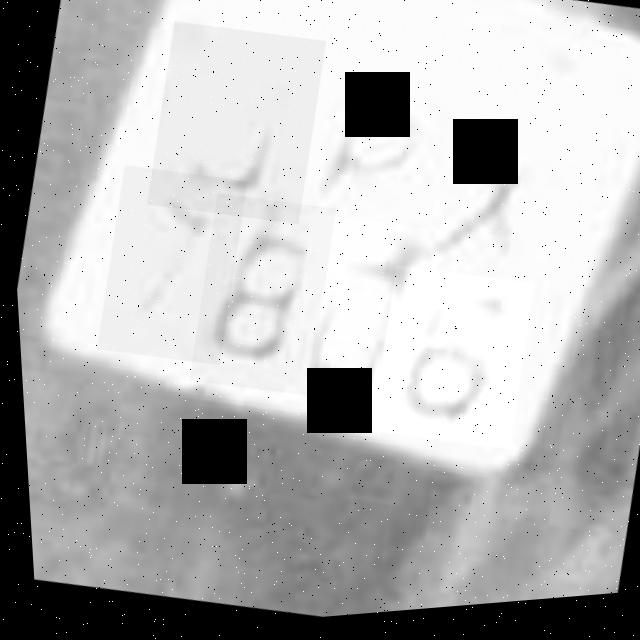6: (358, 262, 539, 466)
7: (84, 159, 253, 376)
8: (175, 189, 341, 408)
J: (135, 14, 333, 238), (269, 210, 447, 431)
